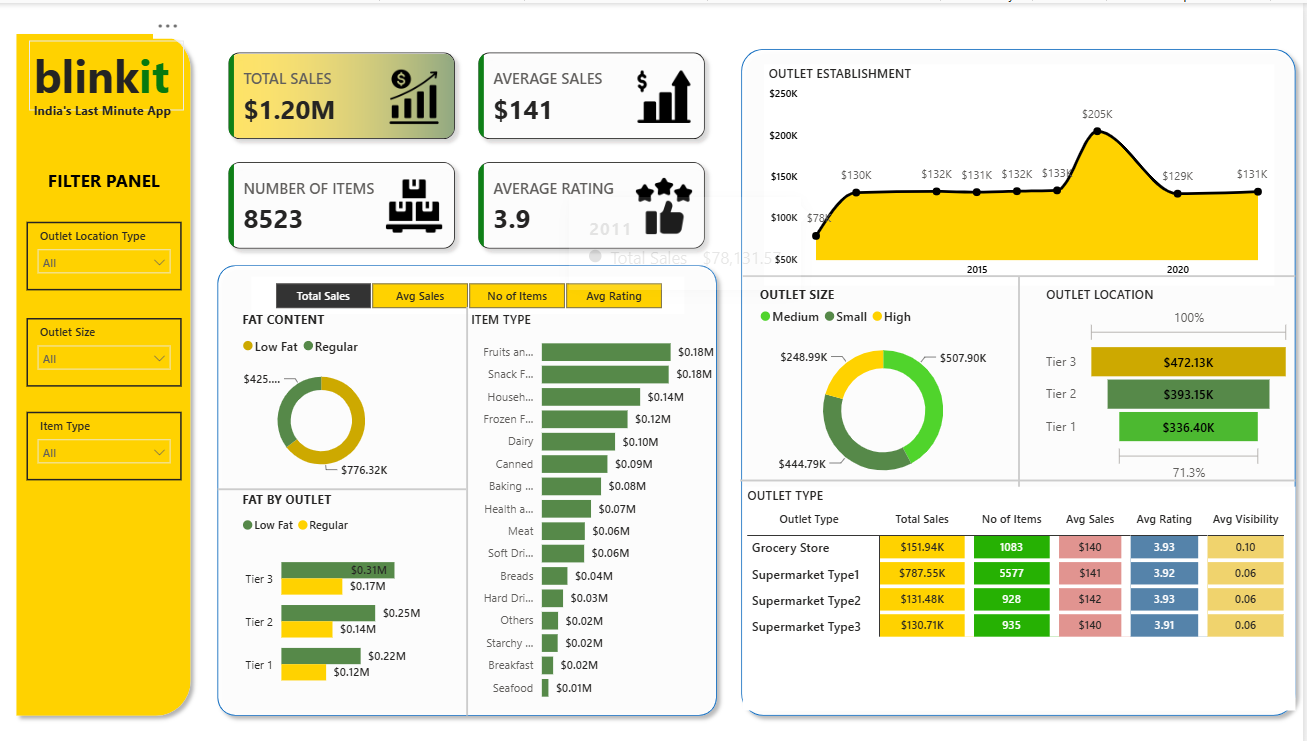

What the dashboard file says about the page in this screenshot:
{"tool":"powerbi","page":{"name":"Page 1","canvas":[1400,800],"ordinal":0},"visuals":[{"type":"shape","box":[9.4,24.1,205.1,749.3],"z":0},{"type":"textbox","box":[32.2,40.2,166.2,75.1],"z":1000},{"type":"textbox","box":[32.2,100.5,160.9,29.5],"z":2000},{"type":"cardVisual","fields":{"Data":["BlinkIT Grocery Data.Total Sales","BlinkIT Grocery Data.Avg Sales","BlinkIT Grocery Data.No of Items","BlinkIT Grocery Data.Avg Rating"]},"box":[217.2,24.1,569.7,269.4],"z":3000},{"type":"shape","box":[225.2,272.1,553.6,501.3],"z":4000},{"type":"slicer","fields":{"Values":["Matrix.Matrix"]},"box":[270.8,293.6,463.8,40.2],"z":5000},{"type":"donutChart","title":"FAT CONTENT","fields":{"Y":["BlinkIT Grocery Data.Total Sales"],"Category":["BlinkIT Grocery Data.Item Fat Content"]},"box":[256,329.8,179.6,189],"z":6000},{"type":"clusteredBarChart","title":"FAT BY OUTLET","fields":{"Y":["BlinkIT Grocery Data.Total Sales"],"Series":["BlinkIT Grocery Data.Item Fat Content"],"Category":["BlinkIT Grocery Data.Outlet Location Type"]},"box":[256,522.8,219.8,229.2],"z":7000},{"type":"barChart","title":"ITEM TYPE","fields":{"Y":["BlinkIT Grocery Data.Total Sales"],"Category":["BlinkIT Grocery Data.Item Type"]},"box":[501.3,329.8,270.8,429],"z":8000},{"type":"shape","box":[234.6,498.7,266.8,45.6],"z":9000},{"type":"shape","box":[496,325.7,12.1,438.3],"z":10000},{"type":"shape","box":[786.9,40.2,612.6,733.2],"z":11000},{"type":"lineChart","title":" OUTLET ESTABLISHMENT","fields":{"Y":["BlinkIT Grocery Data.Total Sales"],"Category":["BlinkIT Grocery Data.Outlet Establishment Year"]},"box":[820.4,65.7,546.9,237.3],"z":12000},{"type":"shape","box":[797.6,282.8,592.5,20.1],"z":13000},{"type":"donutChart","title":"OUTLET SIZE","fields":{"Y":["BlinkIT Grocery Data.Total Sales"],"Category":["BlinkIT Grocery Data.Outlet Size"]},"box":[811,303,274.8,225.2],"z":14000},{"type":"shape","box":[1087.1,293.6,13.4,227.9],"z":15000},{"type":"funnel","title":"OUTLET LOCATION","fields":{"Y":["BlinkIT Grocery Data.Total Sales"],"Category":["BlinkIT Grocery Data.Outlet Location Type"]},"box":[1118,303,272.1,215.8],"z":16000},{"type":"shape","box":[794.9,502.7,595.2,18.8],"z":17000},{"type":"pivotTable","title":"OUTLET TYPE","fields":{"Rows":["BlinkIT Grocery Data.Outlet Type"],"Values":["BlinkIT Grocery Data.Total Sales","BlinkIT Grocery Data.No of Items","BlinkIT Grocery Data.Avg Sales","BlinkIT Grocery Data.Avg Rating","Avg(BlinkIT Grocery Data.Item Visibility)"]},"box":[797.6,518.8,592.5,239.9],"z":17001},{"type":"slicer","fields":{"Values":["BlinkIT Grocery Data.Outlet Location Type"]},"box":[29.5,234.6,166.2,73.7],"z":17003},{"type":"slicer","fields":{"Values":["BlinkIT Grocery Data.Outlet Size"]},"box":[29.5,337.8,166.2,73.7],"z":17004},{"type":"slicer","fields":{"Values":["BlinkIT Grocery Data.Item Type"]},"box":[29.5,438.3,166.2,73.7],"z":17005},{"type":"textbox","box":[32.2,172.9,160.9,37.5],"z":17006}]}

Visuals, with their boxes in screenshot pixels (x1, y1, x2, y2), scaled from the page's 1400x800 canvas onto the 1307x741 screenshot:
shape: crop(9, 22, 200, 716)
textbox: crop(30, 37, 185, 107)
textbox: crop(30, 93, 180, 120)
cardVisual - BlinkIT Grocery Data.Total Sales x BlinkIT Grocery Data.Avg Sales: crop(203, 22, 735, 272)
shape: crop(210, 252, 727, 716)
slicer - Matrix.Matrix: crop(253, 272, 686, 309)
"FAT CONTENT" donutChart: crop(239, 305, 407, 481)
"FAT BY OUTLET" clusteredBarChart: crop(239, 484, 444, 697)
"ITEM TYPE" barChart: crop(468, 305, 721, 703)
shape: crop(219, 462, 468, 504)
shape: crop(463, 302, 474, 708)
shape: crop(735, 37, 1306, 716)
" OUTLET ESTABLISHMENT" lineChart: crop(766, 61, 1276, 281)
shape: crop(745, 262, 1298, 281)
"OUTLET SIZE" donutChart: crop(757, 281, 1014, 489)
shape: crop(1015, 272, 1027, 483)
"OUTLET LOCATION" funnel: crop(1044, 281, 1298, 481)
shape: crop(742, 466, 1298, 483)
"OUTLET TYPE" pivotTable: crop(745, 481, 1298, 703)
slicer - BlinkIT Grocery Data.Outlet Location Type: crop(28, 217, 183, 286)
slicer - BlinkIT Grocery Data.Outlet Size: crop(28, 313, 183, 381)
slicer - BlinkIT Grocery Data.Item Type: crop(28, 406, 183, 474)
textbox: crop(30, 160, 180, 195)
